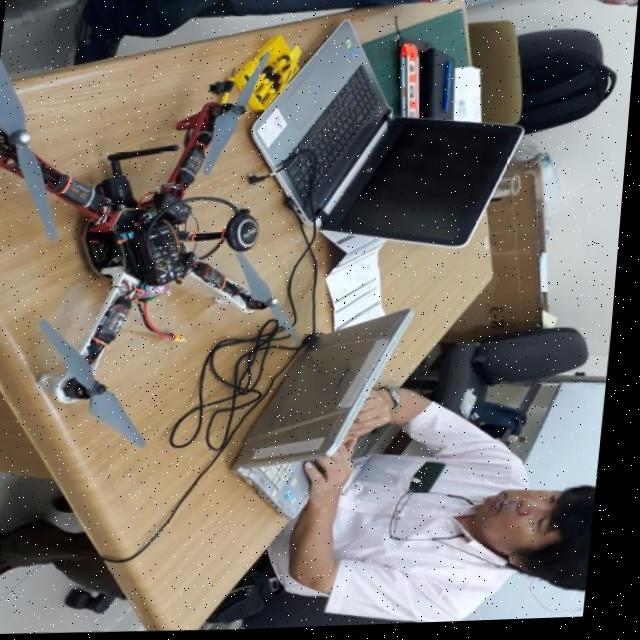drones: (0, 0, 340, 462)
